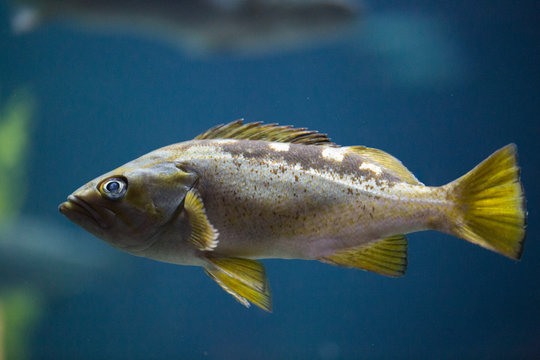Rock Fish: (52, 94, 539, 327)
